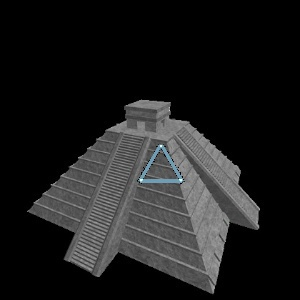triangle: (135, 142, 188, 187)
